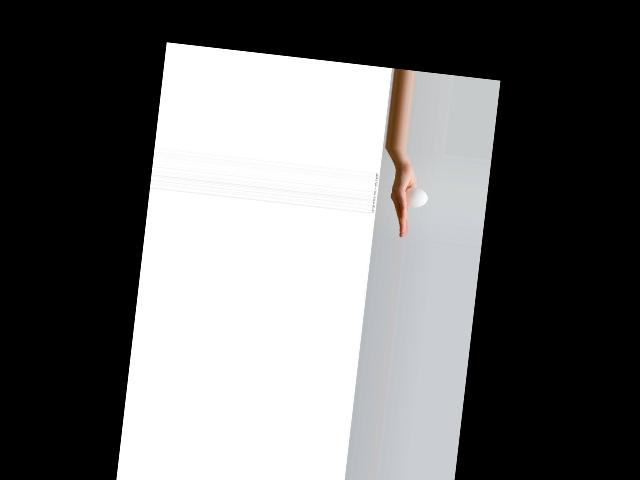egg: (403, 187, 428, 208)
